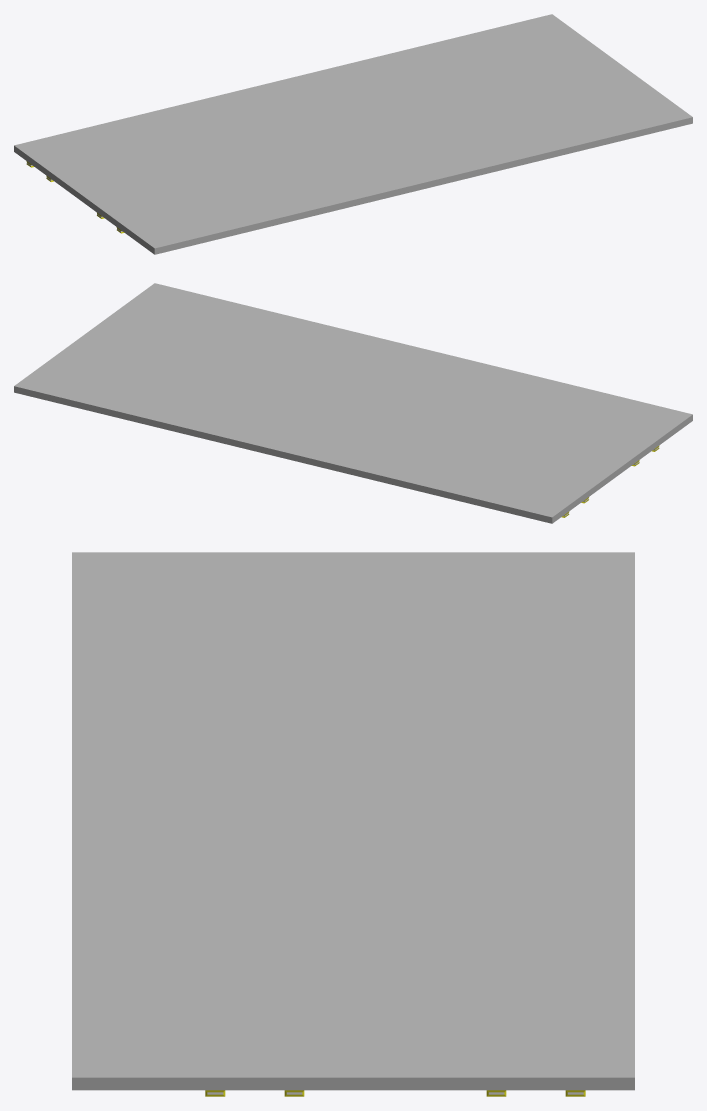
The model's file is 4th Room rooftop.fbx.
The picture shows the model from 3 angles, top to bottom: view 1: azimuth 30°, elevation 25°; view 2: azimuth 150°, elevation 25°; view 3: azimuth 270°, elevation 25°; orthographic projection. The views are drawn at different scales.
Parts seen in each view (by area): view 1: Cube.007, Cube.025; view 2: Cube.025, Cube.007; view 3: Cube.025, Cube.007.
Part boxes in pixels (x1=…): Cube.007: x1=84, y1=66, x2=692, y2=254; Cube.025: x1=14, y1=14, x2=622, y2=202; Cube.025: x1=14, y1=334, x2=622, y2=523; Cube.007: x1=85, y1=283, x2=692, y2=471; Cube.025: x1=352, y1=552, x2=634, y2=1096; Cube.007: x1=72, y1=552, x2=353, y2=1096.
Bounding box in the file's own units: 8792 × 150 × 3983.
